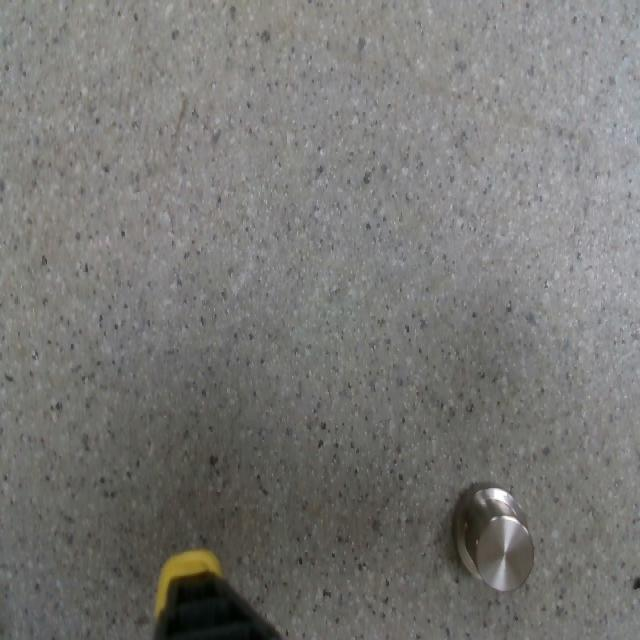sensor: (452, 481, 536, 592)
